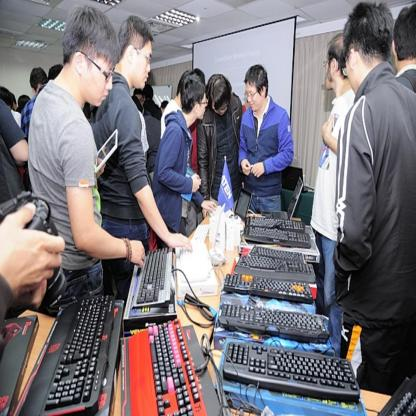board: (260, 175, 303, 222), (232, 185, 254, 221)
